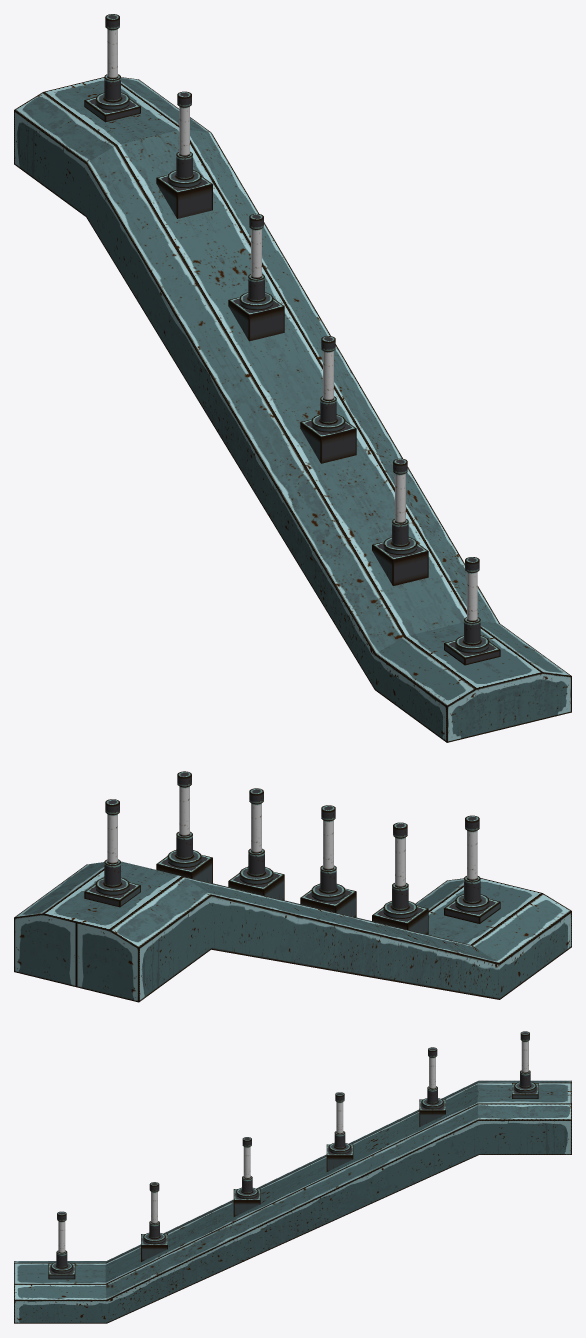
File: EscalatorSide.fbx
3 renders of one model, top to bottom at view 1: azimuth 30°, elevation 25°; view 2: azimuth 150°, elevation 25°; view 3: azimuth 270°, elevation 25°, orthographic. The views are drawn at different scales.
Parts seen in each view (by area): view 1: SideEscalator; view 2: SideEscalator; view 3: SideEscalator.
Part boxes in pixels (x1,y1,x2,y2): SideEscalator: [14, 14, 571, 742]; SideEscalator: [14, 771, 571, 1002]; SideEscalator: [14, 1031, 571, 1323].
Size of the model in its own units: 200 by 642 by 1200.
Materials: 1 (1 with a texture image).
